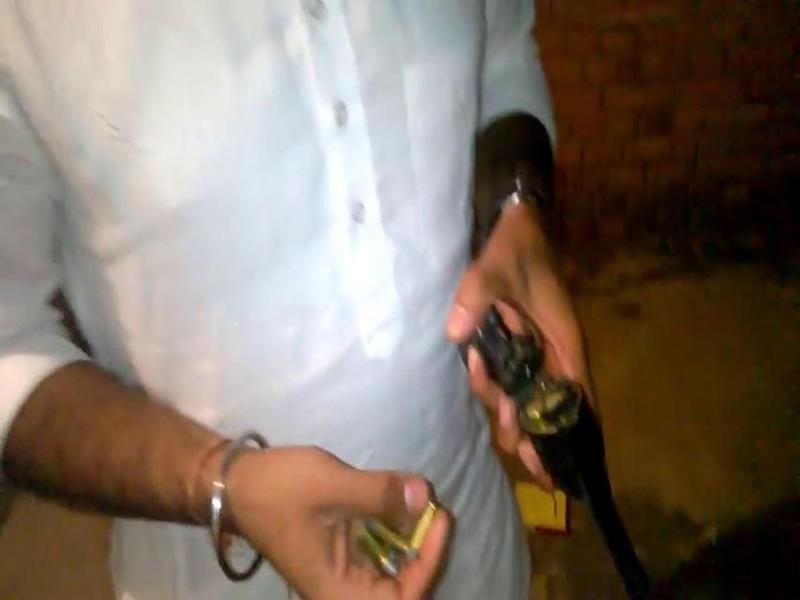Revolver: (477, 305, 665, 600)
